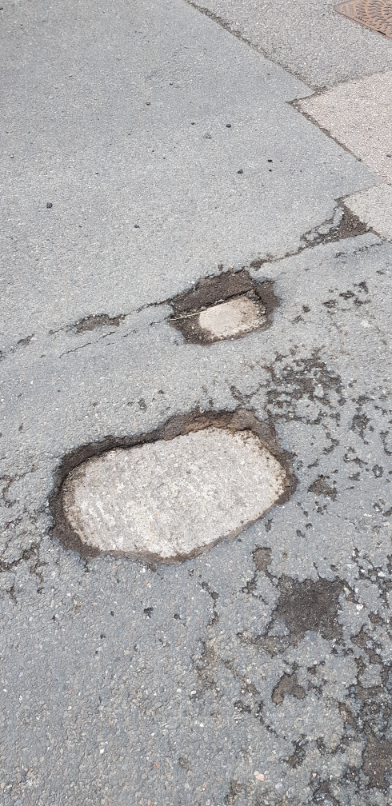pothole: (40, 394, 304, 569), (160, 266, 286, 346)
